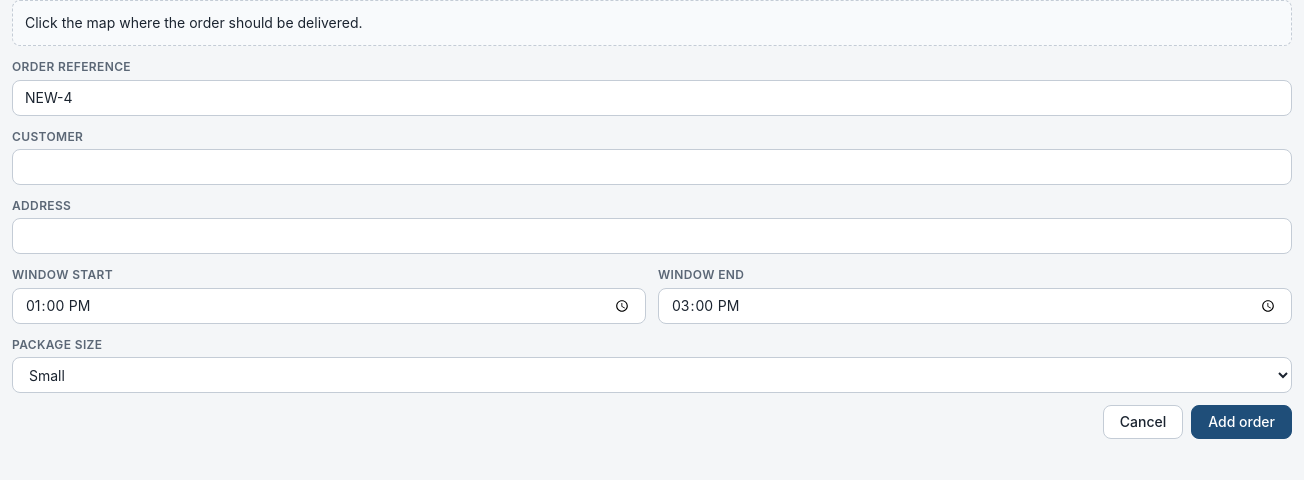
Test: AddOrderForm › asks for a map location before submitting
The width and height of the screenshot is (1304, 480).
Type "Ada Park" into the field labelled "Customer".
click(652, 167); type("Ada Park")  # box [12,149,1292,185]
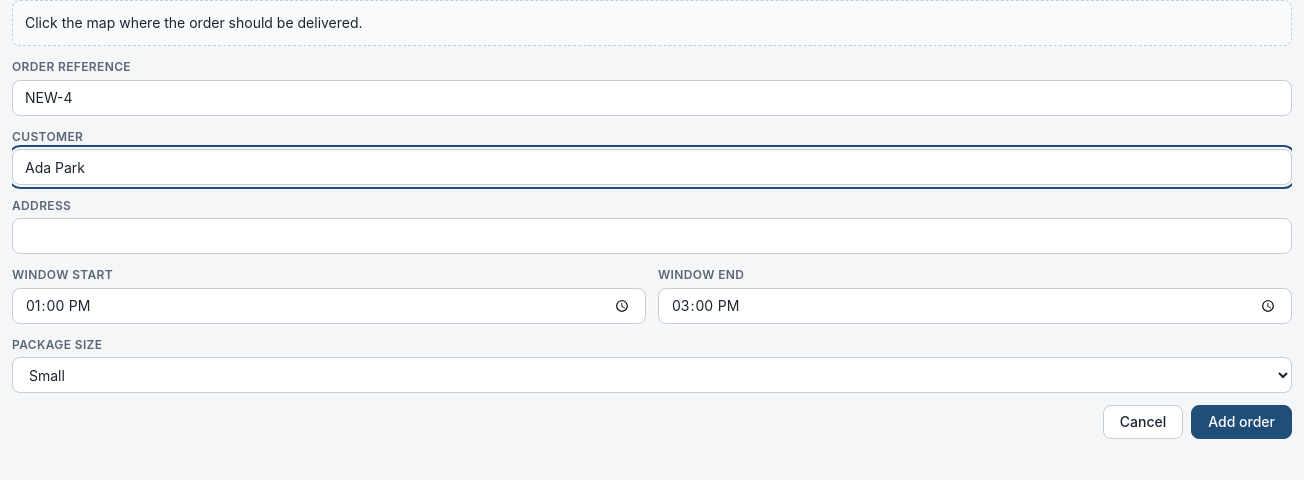
Type "1 W Madison St" into the field labelled "Address".
click(652, 236); type("1 W Madison St")  # box [12,218,1292,254]
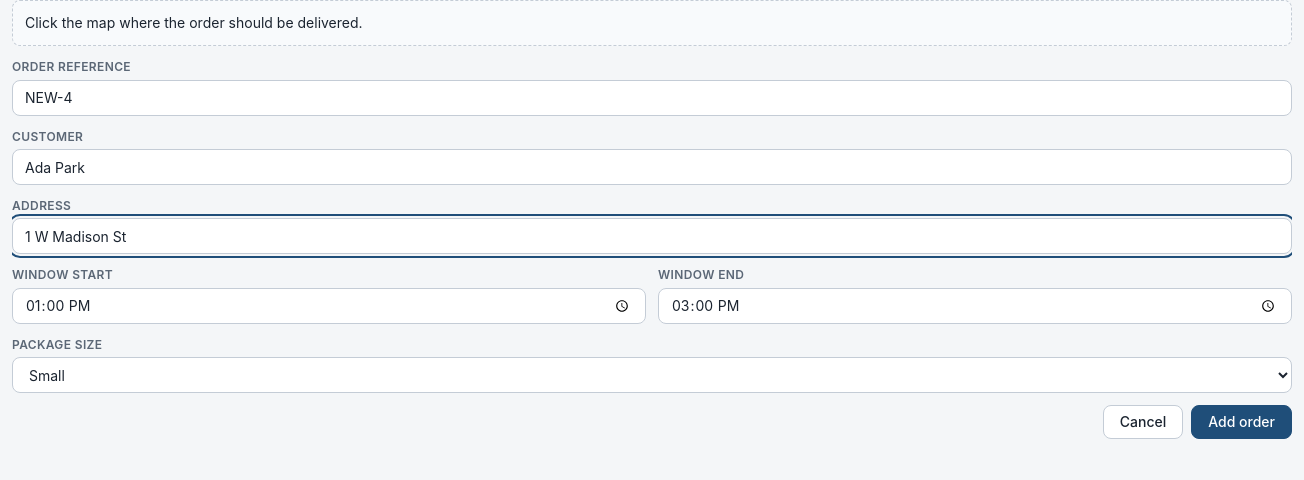
Click the button "Add order".
click(1242, 422)  # box [1191,405,1292,439]
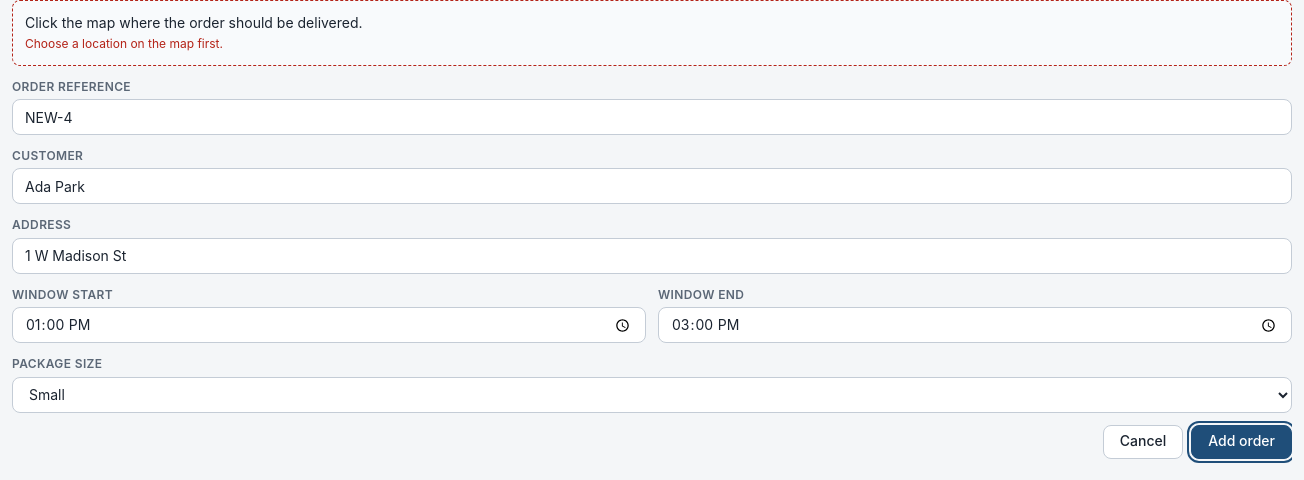
Result: the text "Choose a location on the map first." is shown at [25,36,223,51]
